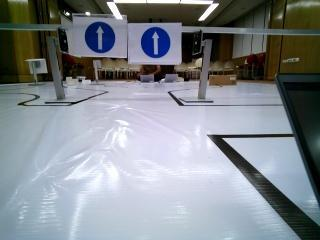straight: (74, 16, 127, 56), (129, 24, 181, 63)
